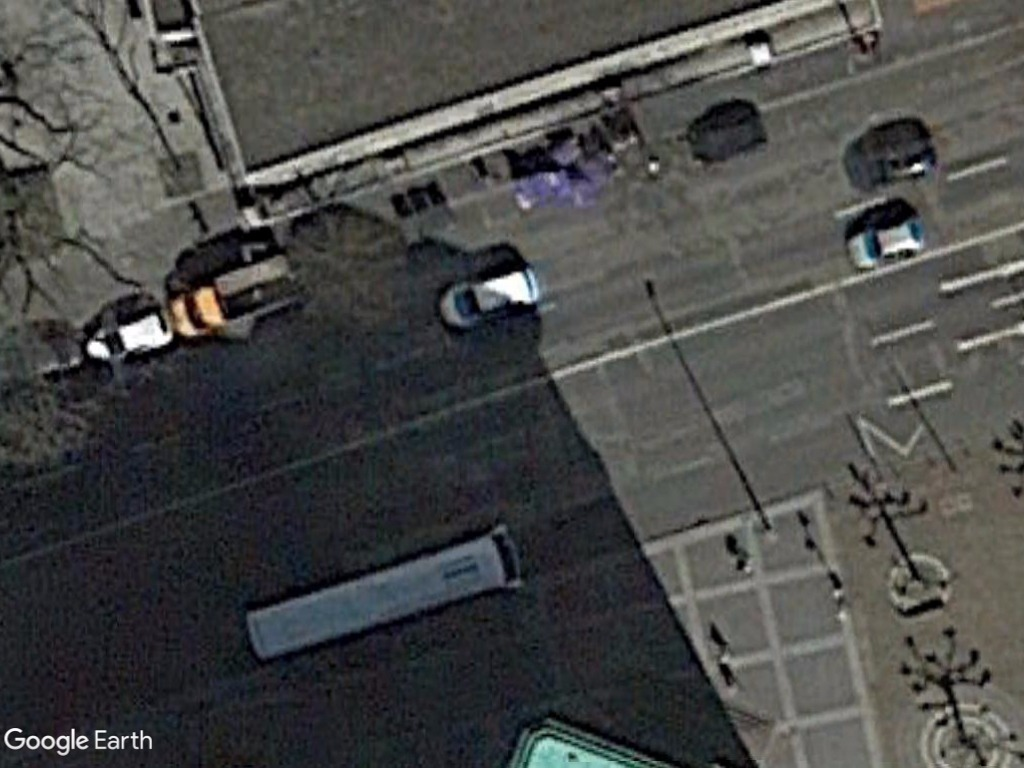bus: (238, 520, 526, 668)
car: (435, 263, 544, 331), (840, 214, 925, 272)
